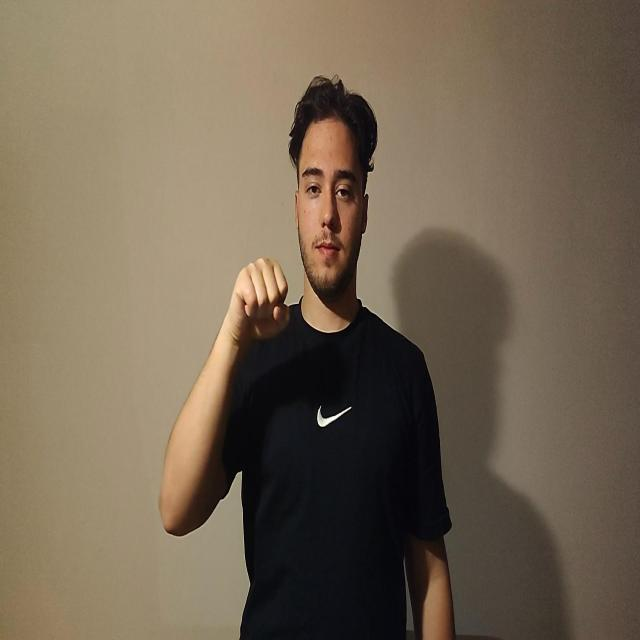yes: (228, 256, 290, 347)
